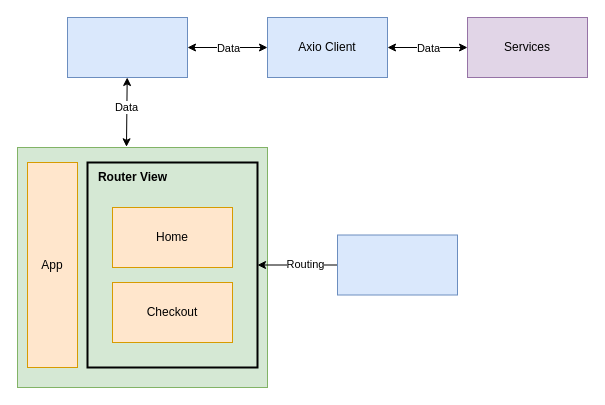
Some shapes in this 605 by 405 pixel diagram are drawn without their labels. Here are the shapes that lost their labels. From the top down, the box of each, then its label:
(66, 16, 188, 78): Pinia Store
(336, 234, 458, 295): Router
